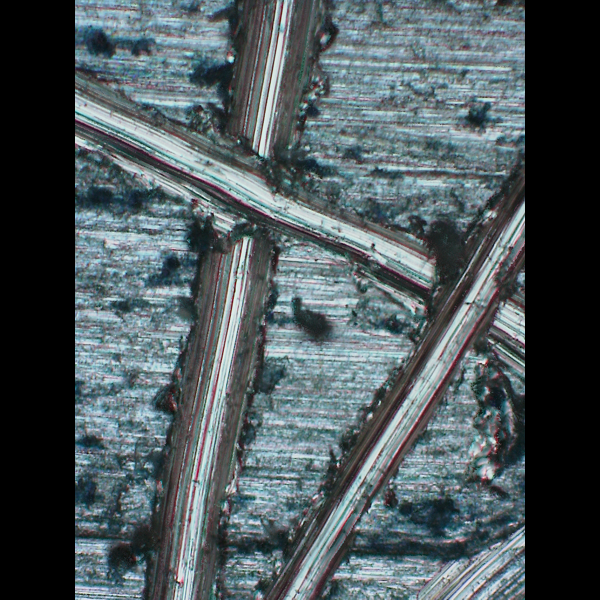d: (75, 57, 525, 392), (261, 154, 522, 600), (138, 4, 331, 600)
